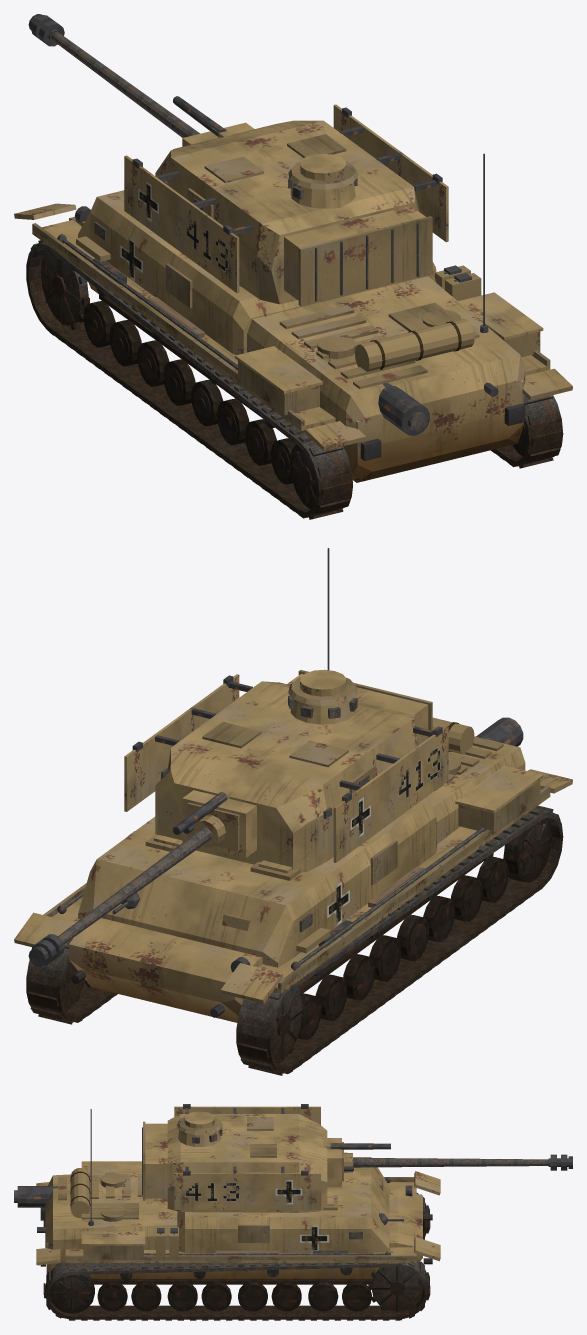
The model's file is pz4_game.glb.
The picture shows the model from 3 angles, top to bottom: view 1: azimuth 30°, elevation 25°; view 2: azimuth 150°, elevation 25°; view 3: azimuth 270°, elevation 25°; orthographic projection. The views are drawn at different scales.
Parts seen in each view (by area): view 1: pz4_hull, pz4_turret, pz4_barrel, pz4_gun; view 2: pz4_hull, pz4_turret, pz4_gun, pz4_barrel; view 3: pz4_hull, pz4_turret, pz4_barrel, pz4_gun.
Part boxes in pixels (x1,y1,x2,y2): pz4_hull: (14,153,572,519); pz4_turret: (124,104,448,306); pz4_barrel: (28,14,199,137); pz4_gun: (173,96,254,146); pz4_hull: (14,548,572,1075); pz4_turret: (124,669,448,872); pz4_gun: (173,789,256,857); pz4_barrel: (28,827,212,966); pz4_hull: (14,1109,440,1320); pz4_turret: (142,1104,327,1212); pz4_barrel: (353,1154,572,1170); pz4_gun: (323,1138,390,1187).
Bounding box in the file's own units: 3.06 × 3.43 × 8.76.
8 materials, 8 textured.
